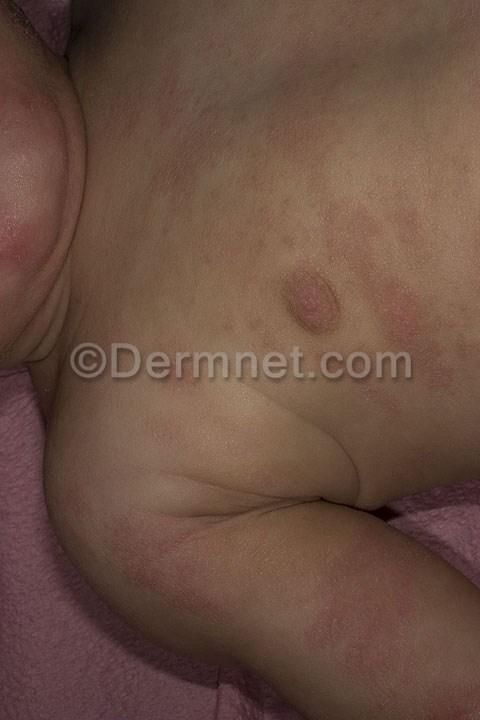eritema 1: (307, 205, 473, 397), (304, 539, 474, 719), (97, 493, 258, 640), (0, 72, 62, 266)
xerosis 1: (0, 0, 53, 58)
